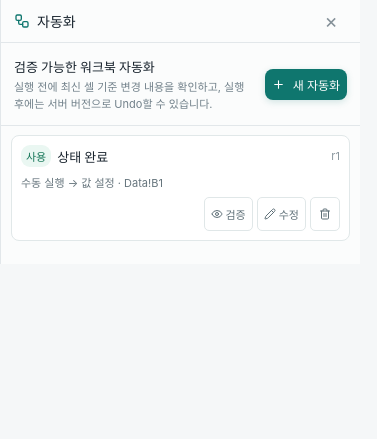
Scenario: AutomationPanel › waits for local edits and stops preview when preparation fails
Click the button "검증" at (228, 214), box [204,197,253,231]
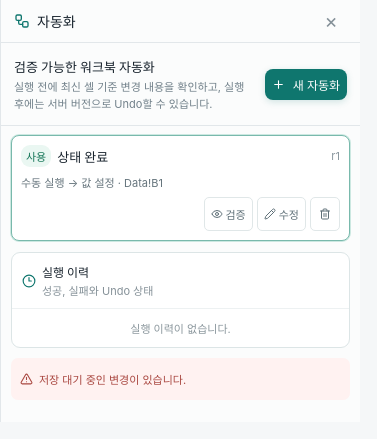
Expected: the text "저장 대기 중인 변경이 있습니다." is shown, [39,373,186,387]
